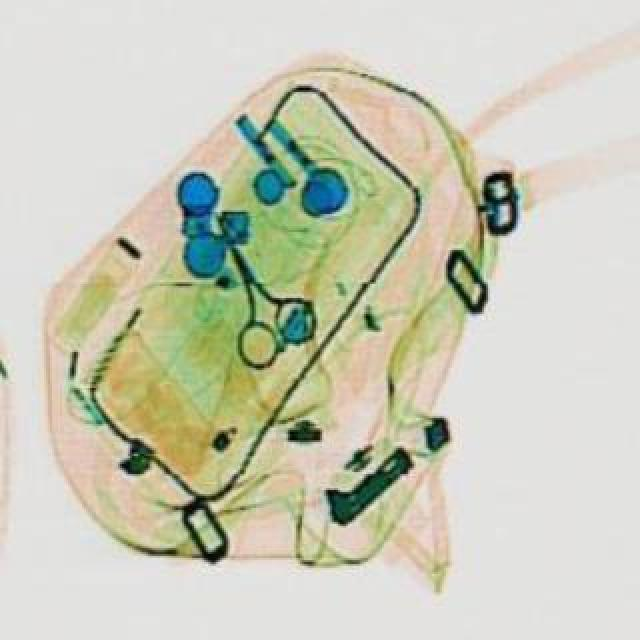pliers: (186, 218, 334, 380)
